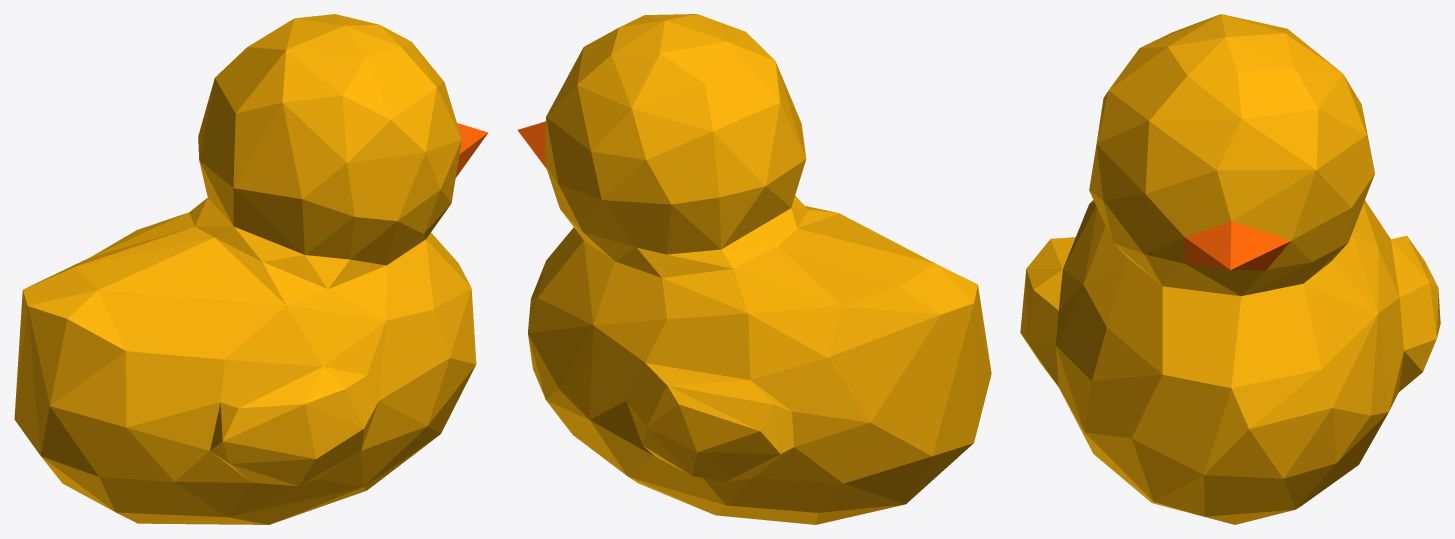
Rendered from duck.fbx.
3 renders of one model, left to right at view 1: azimuth 30°, elevation 25°; view 2: azimuth 150°, elevation 25°; view 3: azimuth 270°, elevation 25°, orthographic. The views are drawn at different scales.
Visible parts, largest first — view 1: Mesh; view 2: Mesh; view 3: Mesh.
Part boxes in pixels (<box>): Mesh: <box>14,14,487,524</box>; Mesh: <box>517,14,991,524</box>; Mesh: <box>1020,14,1440,524</box>.
Bounding box in the file's own units: 323 × 296 × 236.
1 material, 1 textured.
